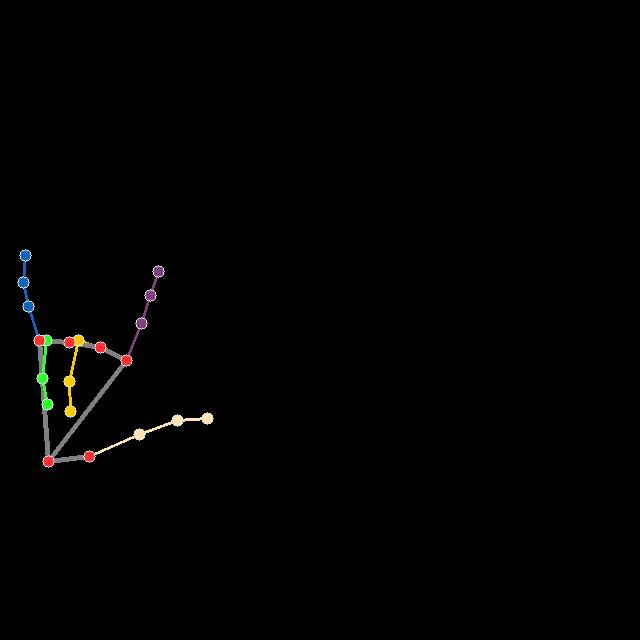spiderman: (19, 248, 214, 468)
